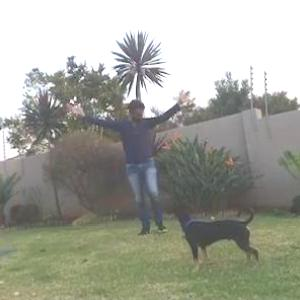takeoff: (59, 83, 188, 232)
